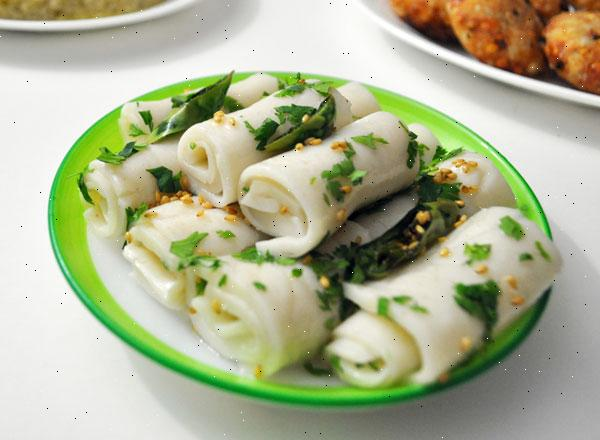khandvi: (107, 97, 566, 382)
